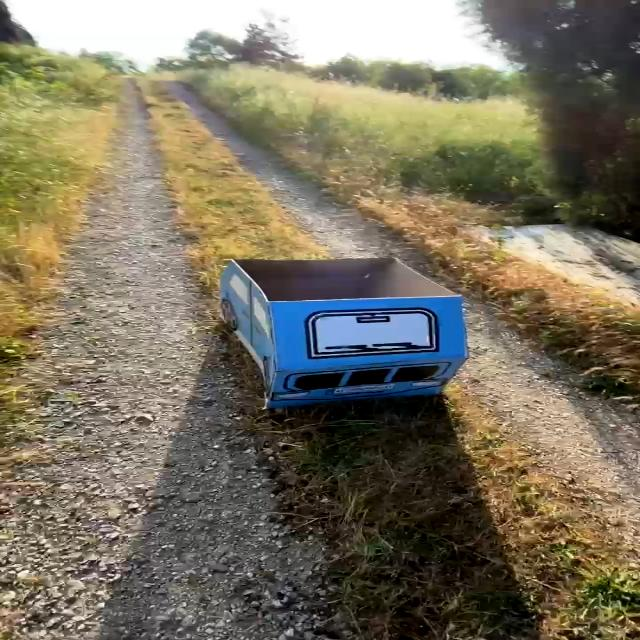blue_car: (168, 238, 507, 423)
